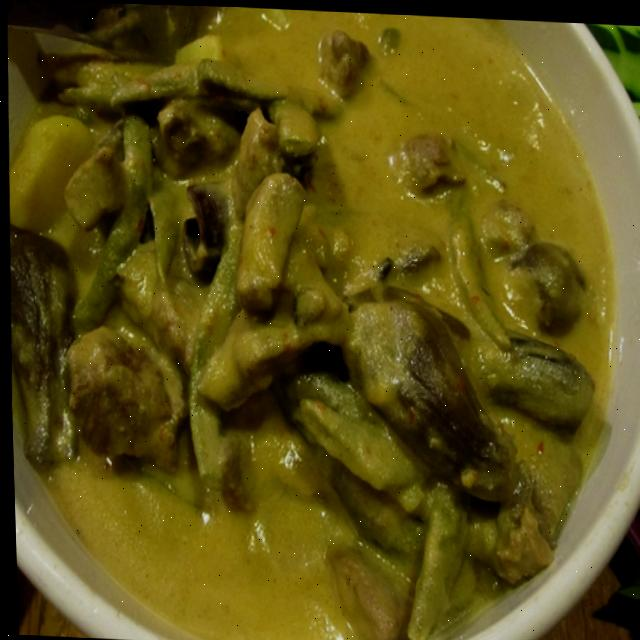熟制海鲜: (0, 0, 625, 627)
